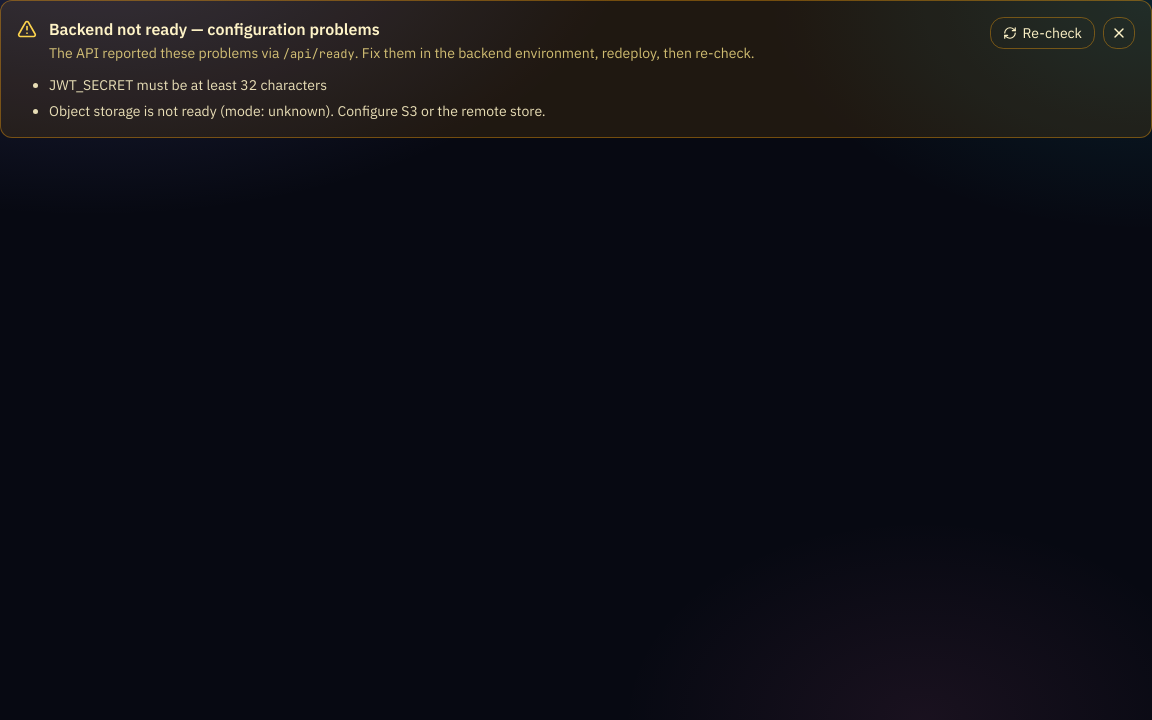
Test: banner lists config_problems from /api/ready 503
The width and height of the screenshot is (1152, 720).
Expected: the message with test id "backend-not-ready-banner" is shown, [0,0,1151,138]
Click the button with test id "backend-health-dismiss": [1119, 33] box [1103,17,1135,49]
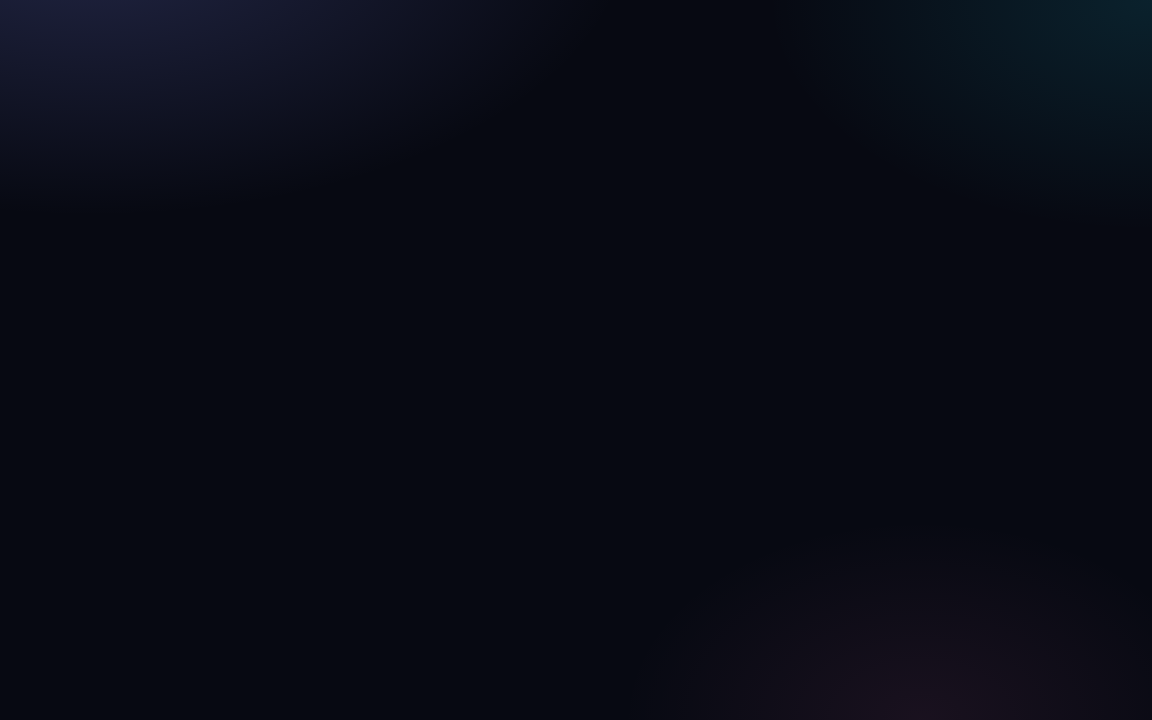
Expected: the message with test id "backend-not-ready-banner" is gone
